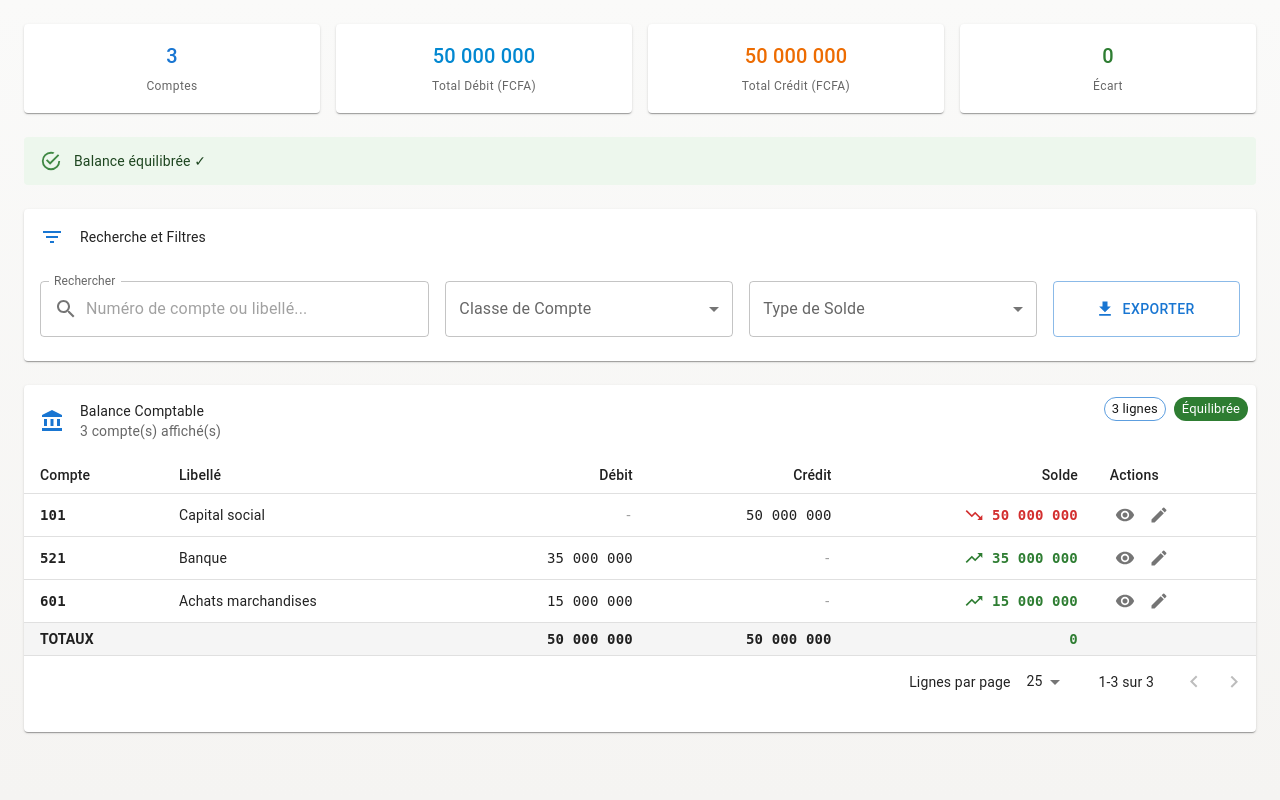
Test: BalanceConsultation › filtre les balances par terme de recherche
Step 1. Type "Capital" into the field with placeholder "Numéro de compte ou libellé..." → (258, 309), box [86, 281, 429, 337]
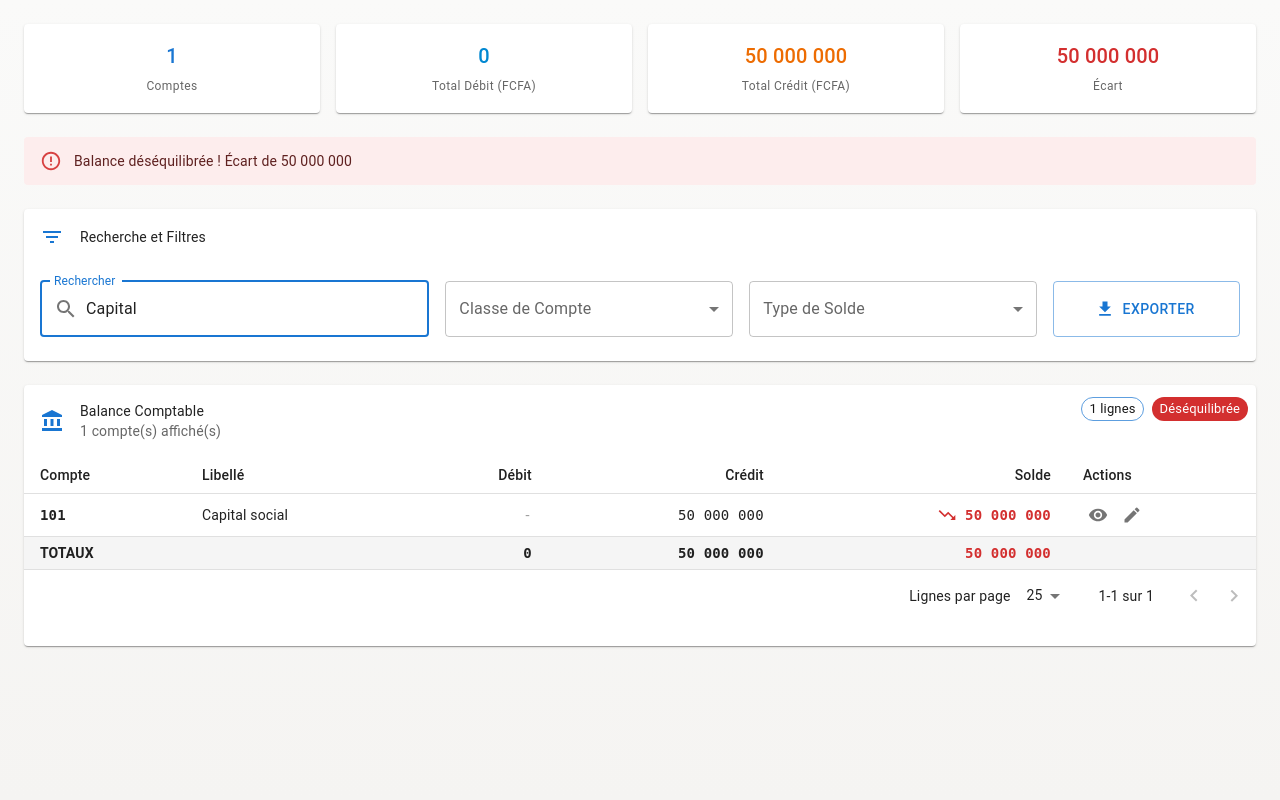
Expected: the text "Capital social" is shown, [202, 507, 288, 523]
Expected: the text "Banque" is gone
